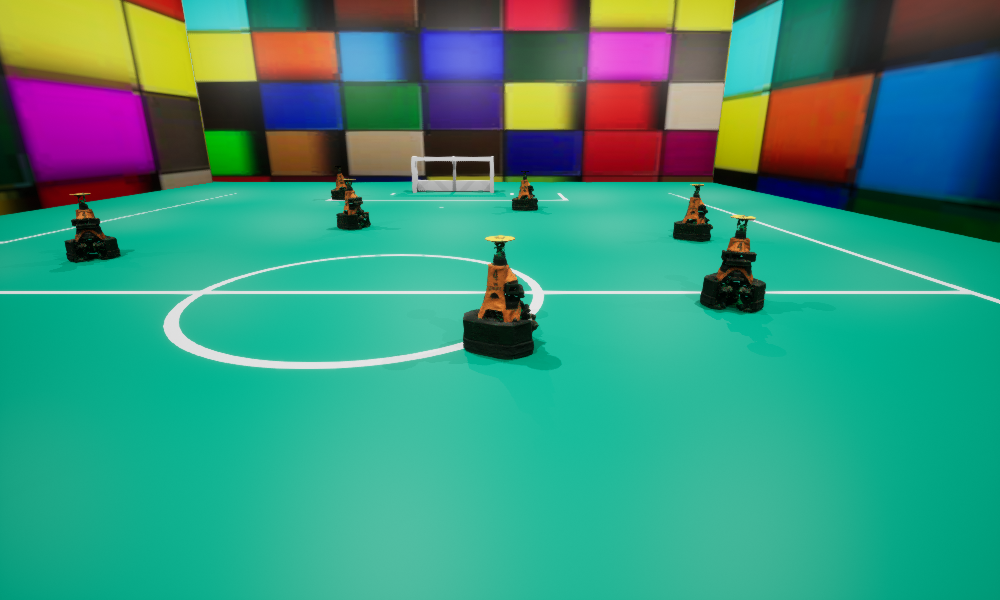o: (463, 235, 538, 359), (700, 215, 765, 311), (64, 193, 120, 262), (673, 184, 712, 241), (336, 179, 370, 229), (512, 171, 537, 210), (331, 166, 347, 199)
